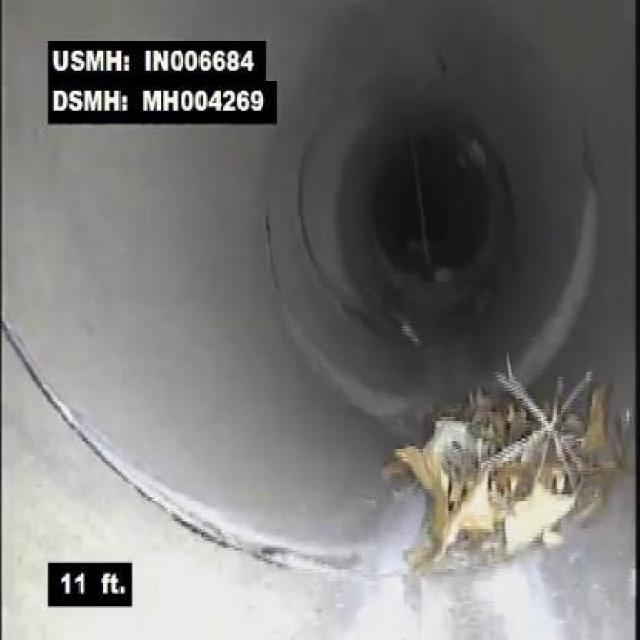Joint offset: (509, 148, 629, 375), (277, 304, 398, 422)
